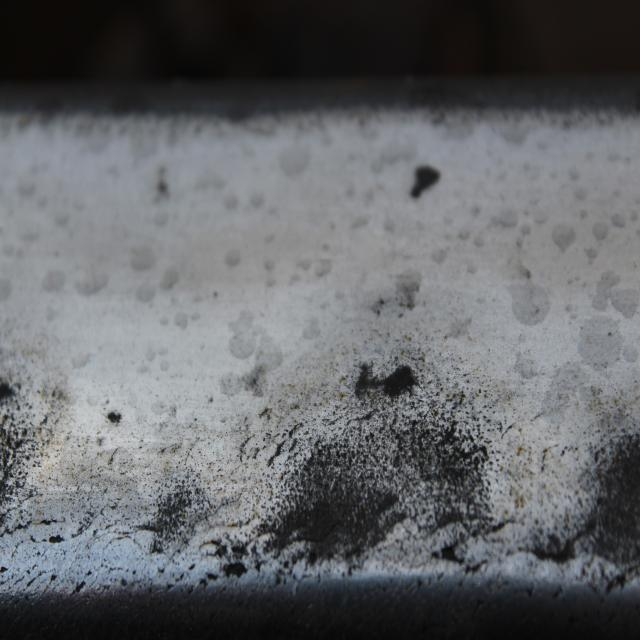broken_rail_medium: (355, 356, 418, 406), (409, 164, 442, 202)
